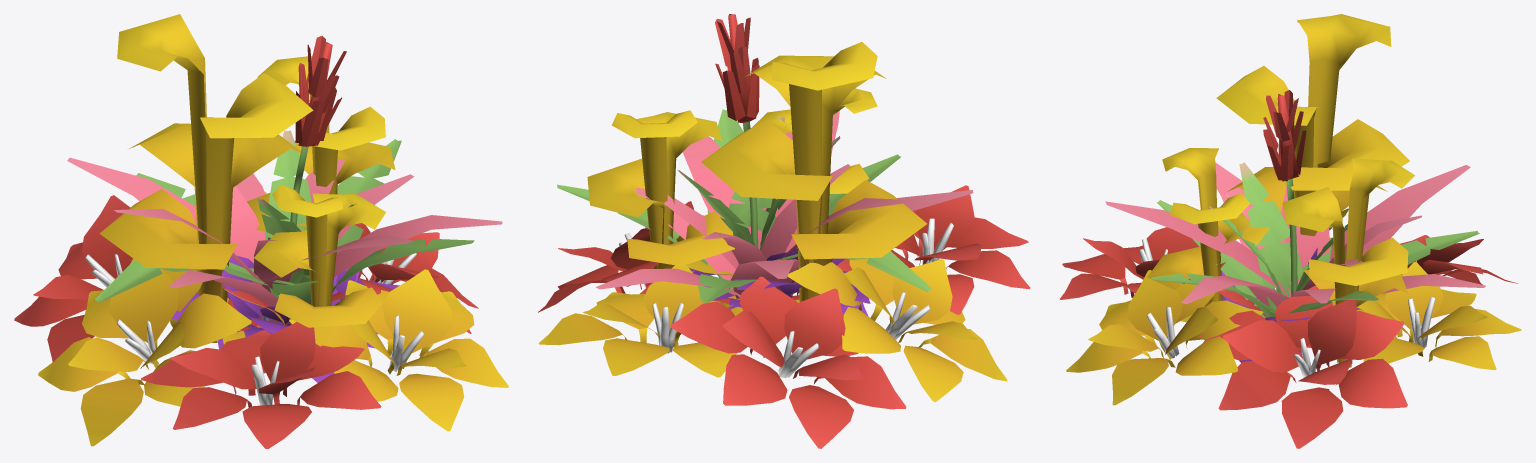
Rendered from Flower group.fbx.
3 renders of one model, left to right at view 1: azimuth 30°, elevation 25°; view 2: azimuth 150°, elevation 25°; view 3: azimuth 270°, elevation 25°, orthographic. The views are drawn at different scales.
Visible parts, largest first — view 1: flower_bunch, yellow_flower, GR_flower, pink_flower, purple_flower, Red_flower; view 2: flower_bunch, yellow_flower, pink_flower, GR_flower; view 3: flower_bunch, yellow_flower, GR_flower, pink_flower.
Boxes of the visible parts, box(x1,y1,x2,y2) form: flower_bunch: box(14, 191, 508, 448); yellow_flower: box(99, 14, 395, 342); GR_flower: box(95, 36, 474, 324); pink_flower: box(67, 157, 502, 325); purple_flower: box(236, 270, 399, 348); Red_flower: box(224, 277, 358, 331); flower_bunch: box(538, 185, 1030, 448); yellow_flower: box(587, 42, 927, 301); pink_flower: box(595, 110, 973, 298); GR_flower: box(557, 14, 931, 302); flower_bunch: box(1059, 208, 1521, 448); yellow_flower: box(1147, 14, 1414, 367); GR_flower: box(1151, 90, 1479, 318); pink_flower: box(1105, 162, 1485, 307).
Size of the model in its own units: 241 by 186 by 254.
